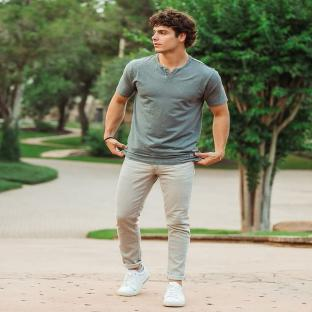Human: (103, 8, 229, 307)
